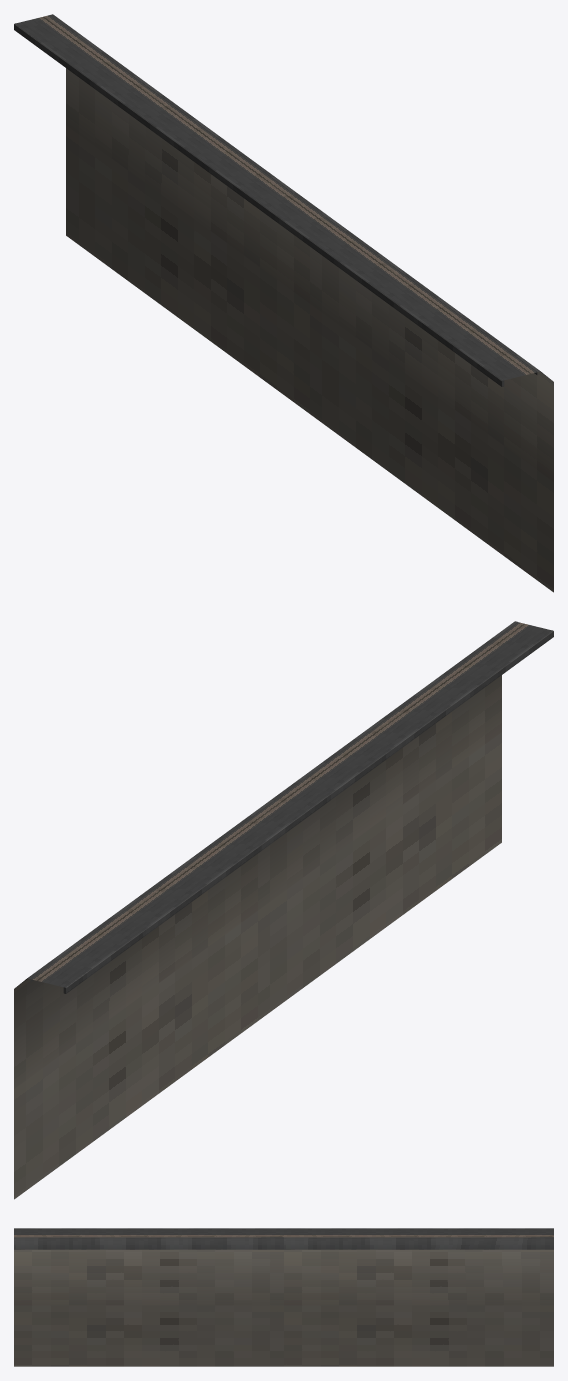
Rendered from sidewalk_nocrossing_lod.fbx.
3 views of the same model, one above another, from view 1: azimuth 30°, elevation 25°; view 2: azimuth 150°, elevation 25°; view 3: azimuth 270°, elevation 25° (orthographic). The views are drawn at different scales.
Parts seen in each view (by area): view 1: NodeSidewalk_lod.001; view 2: NodeSidewalk_lod.001; view 3: NodeSidewalk_lod.001.
Part boxes in pixels (x1=…): NodeSidewalk_lod.001: x1=14, y1=14, x2=553, y2=592; NodeSidewalk_lod.001: x1=14, y1=621, x2=553, y2=1199; NodeSidewalk_lod.001: x1=14, y1=1228, x2=553, y2=1366.
Bounding box in the file's own units: 395 × 1626 × 6400.
